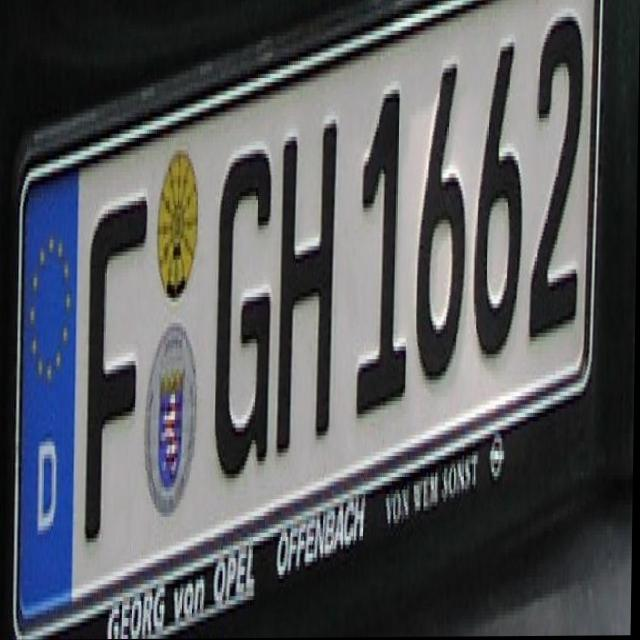1: (355, 86, 410, 423)
2: (530, 9, 585, 355)
6: (471, 30, 525, 360), (414, 56, 468, 385)
F: (85, 189, 150, 551)
G: (212, 141, 277, 492)
H: (276, 120, 338, 461)
